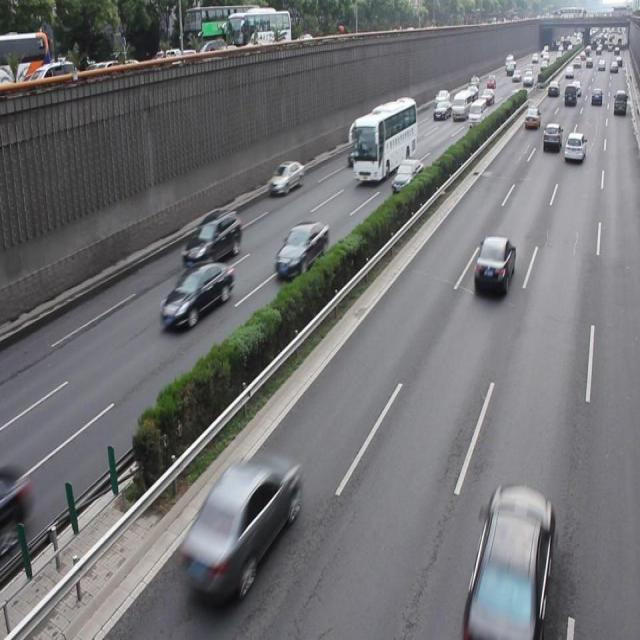car: (178, 451, 298, 587), (465, 484, 553, 640), (158, 258, 234, 330), (180, 206, 241, 267), (273, 219, 328, 279), (471, 234, 515, 295), (268, 158, 303, 195), (391, 157, 423, 195)
van: (350, 97, 416, 183)
